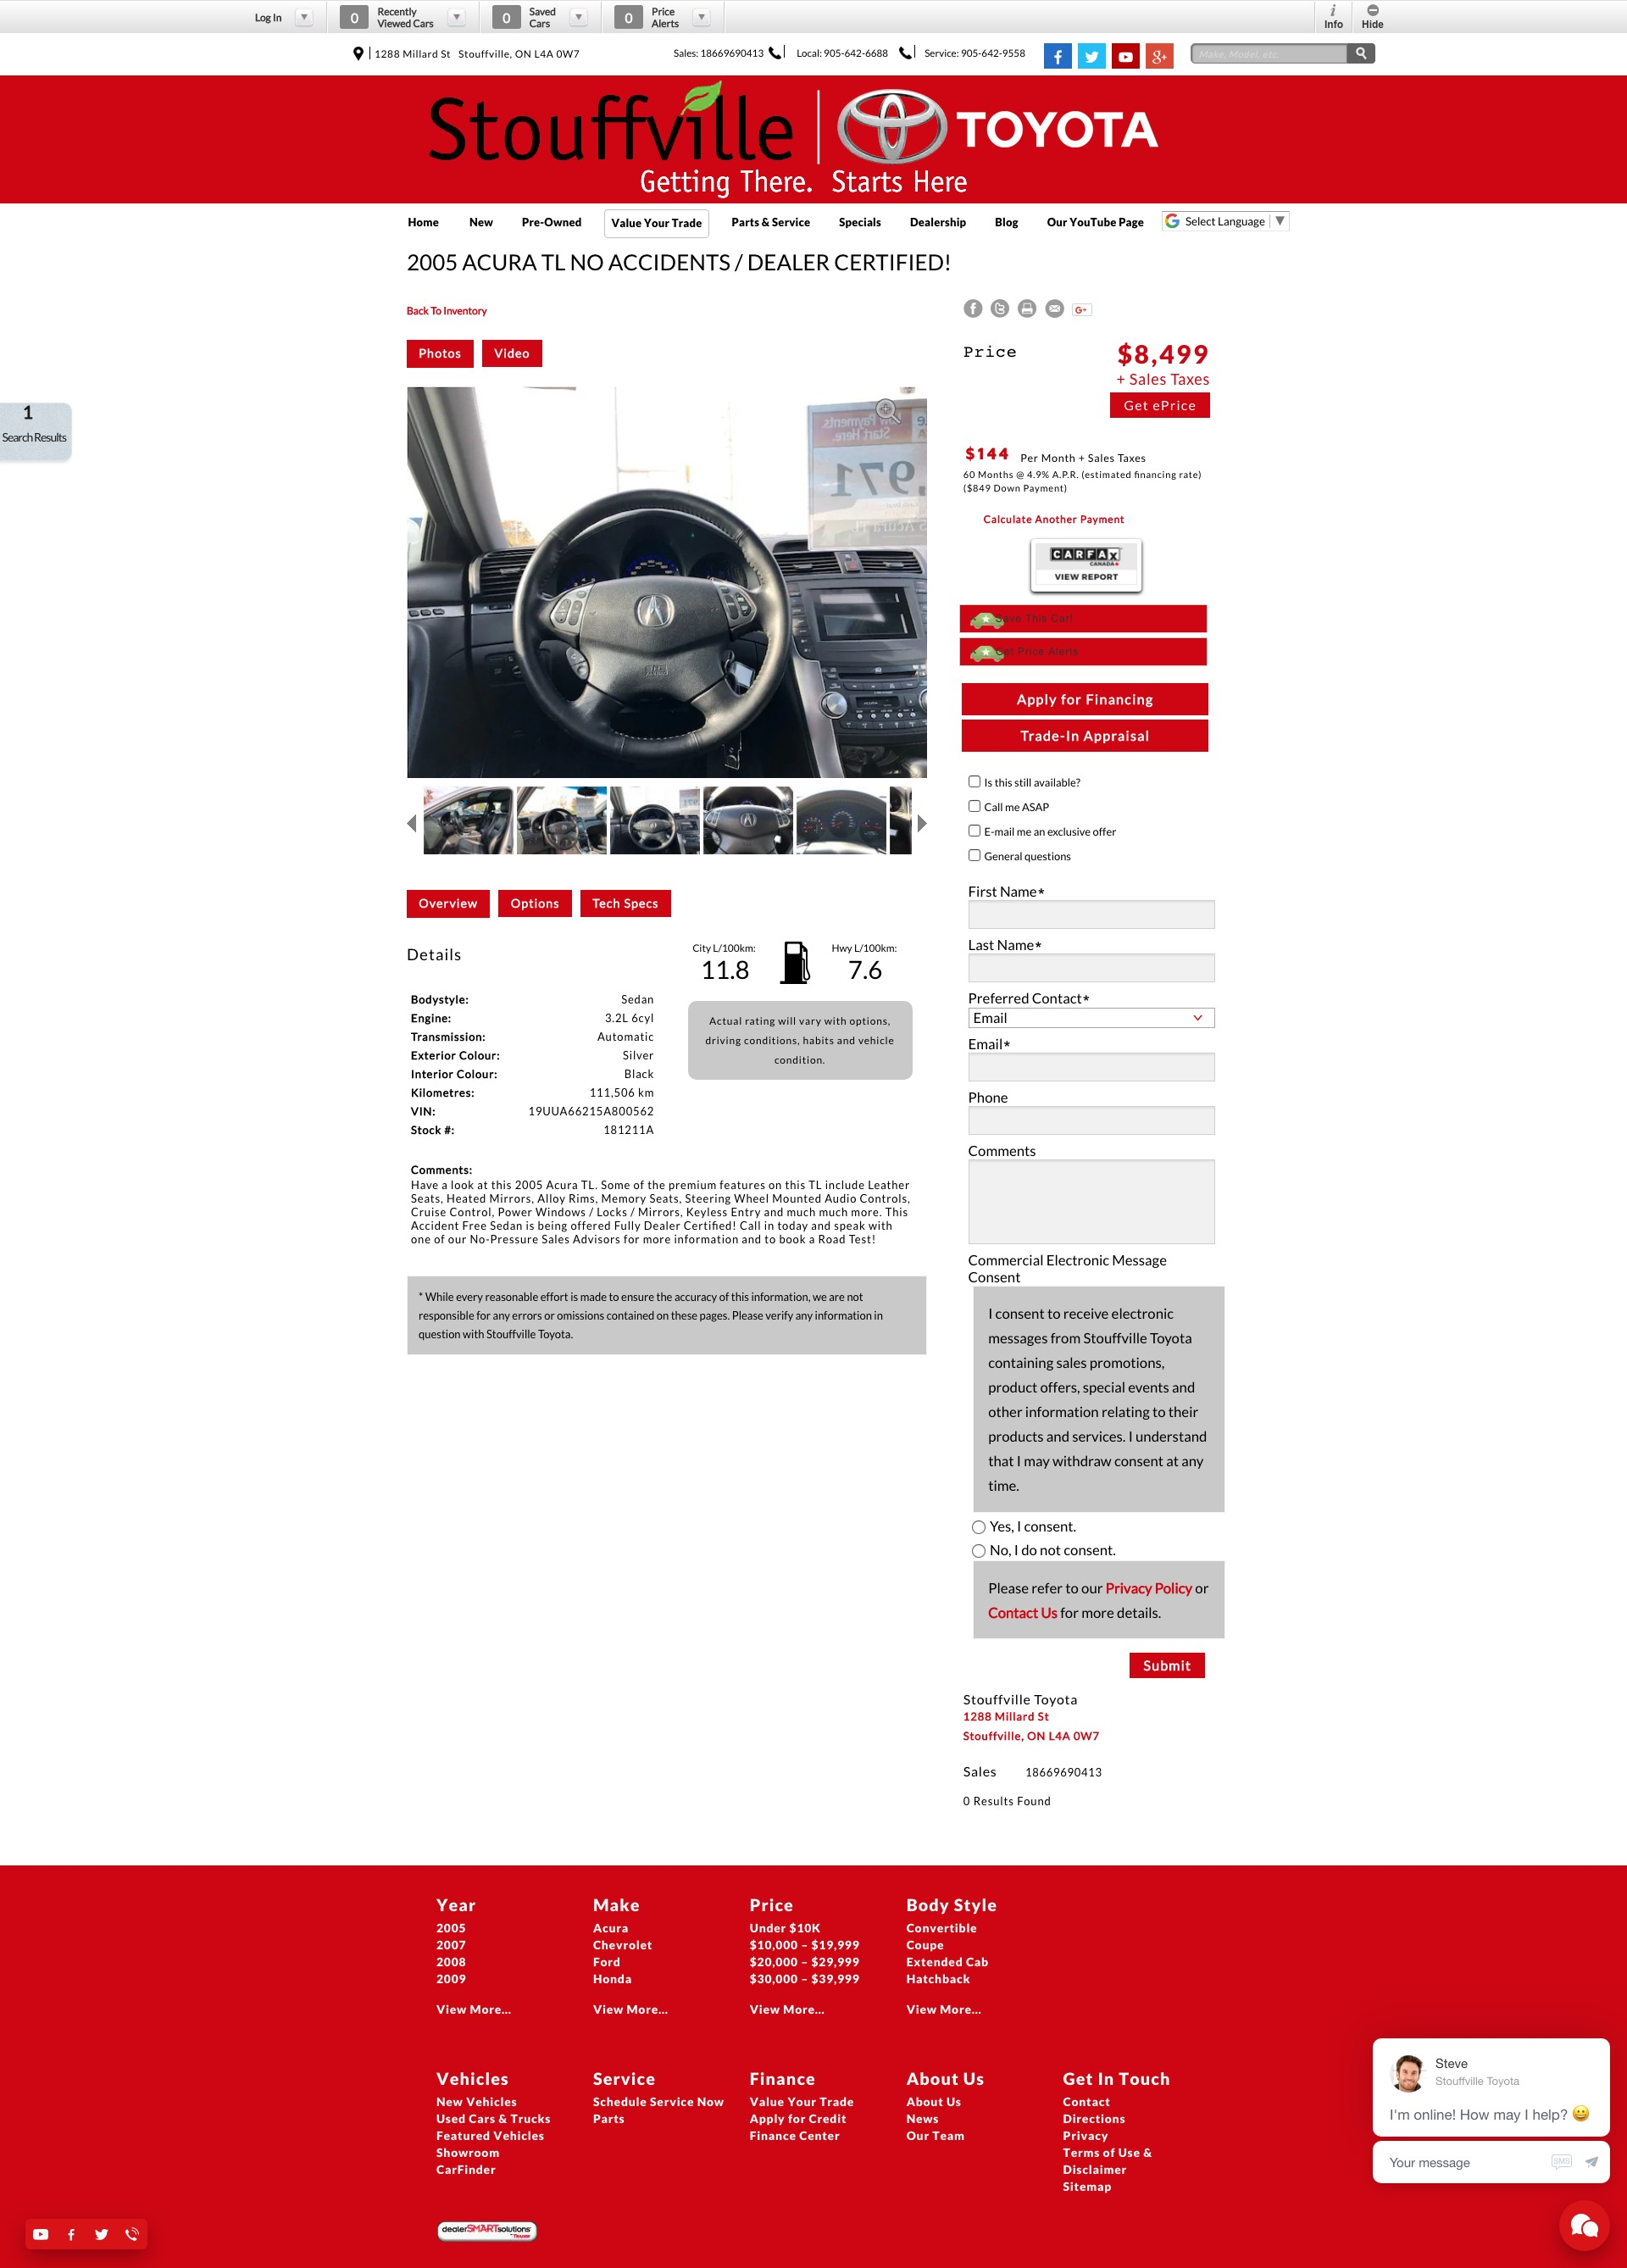car: (917, 814, 928, 833)
